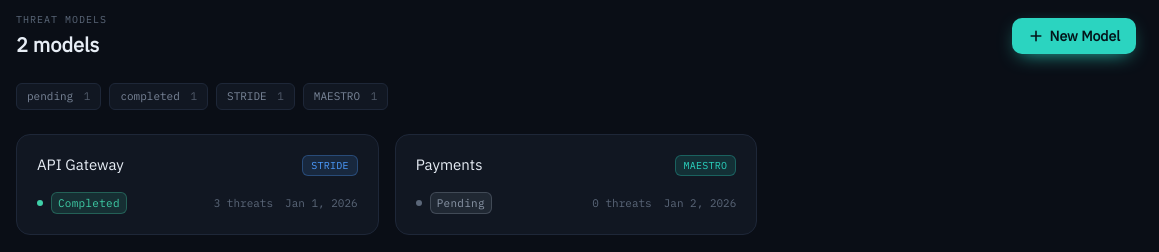
Scenario: Home — filtering › filters the list by framework when a framework chip is clicked
Check: the heading "API Gateway" is shown, box left=37, top=154, right=124, bottom=174
Click the button "MAESTRO 1". click: (346, 96)
box: left=303, top=83, right=388, bottom=110
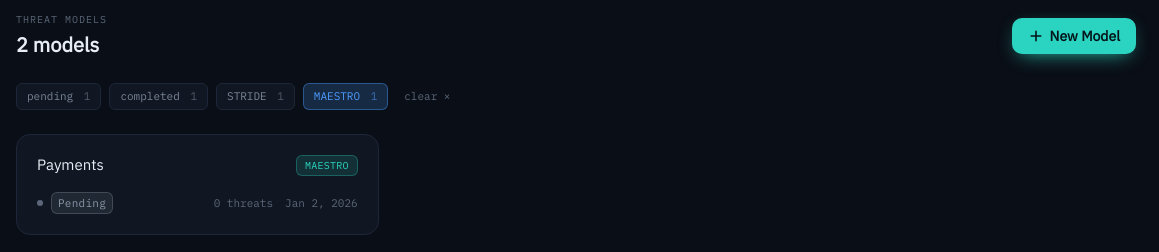
Check: the heading "Payments" is shown, box left=37, top=154, right=104, bottom=174
Check: the link "API Gateway" is gone
